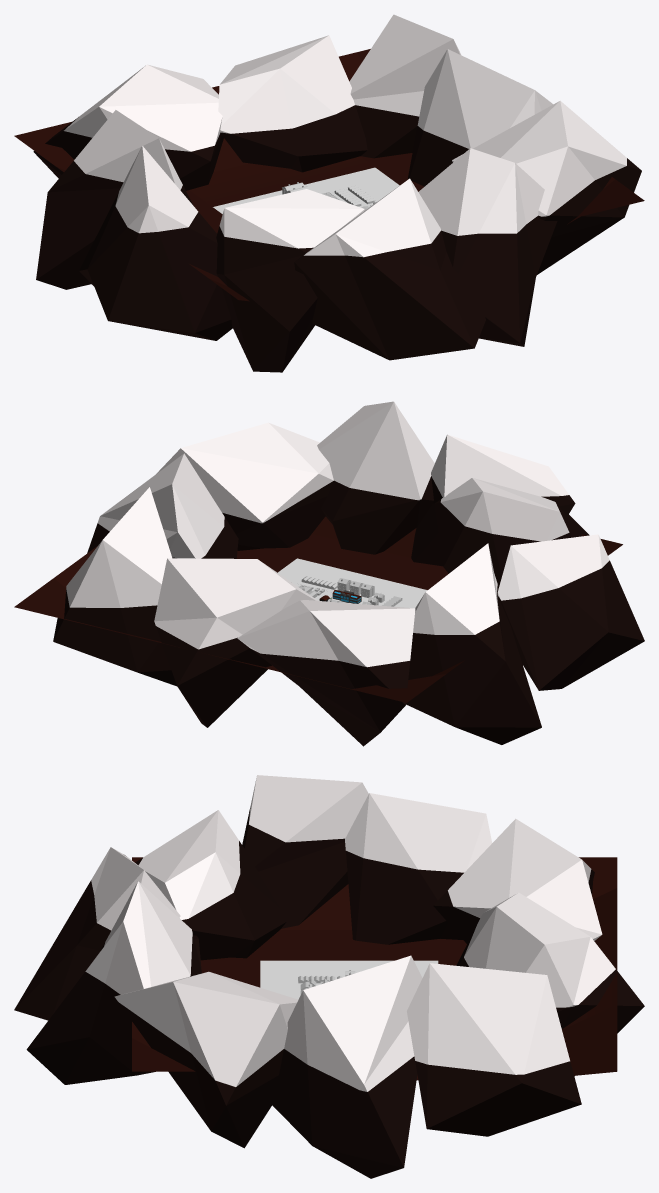
File: GlazVezel_V01.FBX
The picture shows the model from 3 angles, top to bottom: view 1: azimuth 30°, elevation 25°; view 2: azimuth 150°, elevation 25°; view 3: azimuth 270°, elevation 25°; orthographic projection. The views are drawn at different scales.
Visible parts, largest first — view 1: GeoSphere145, GeoSphere144, Plane002, Plane001; view 2: GeoSphere144, GeoSphere145, Plane002, Plane001; view 3: GeoSphere144, GeoSphere145, Plane002, Plane001.
Boxes of the visible parts, x1=… form: GeoSphere145: x1=33, y1=105, x2=641, y2=372; GeoSphere144: x1=64, y1=14, x2=626, y2=257; Plane002: x1=14, y1=49, x2=644, y2=301; Plane001: x1=213, y1=167, x2=399, y2=213; GeoSphere144: x1=66, y1=401, x2=609, y2=667; GeoSphere145: x1=53, y1=476, x2=644, y2=746; Plane002: x1=14, y1=516, x2=622, y2=702; Plane001: x1=278, y1=558, x2=427, y2=608; GeoSphere144: x1=85, y1=775, x2=615, y2=1091; GeoSphere145: x1=14, y1=808, x2=644, y2=1178; Plane002: x1=132, y1=857, x2=617, y2=1080; Plane001: x1=260, y1=960, x2=438, y2=999.
Size of the model in its own units: 82471 by 31377 by 79614.
